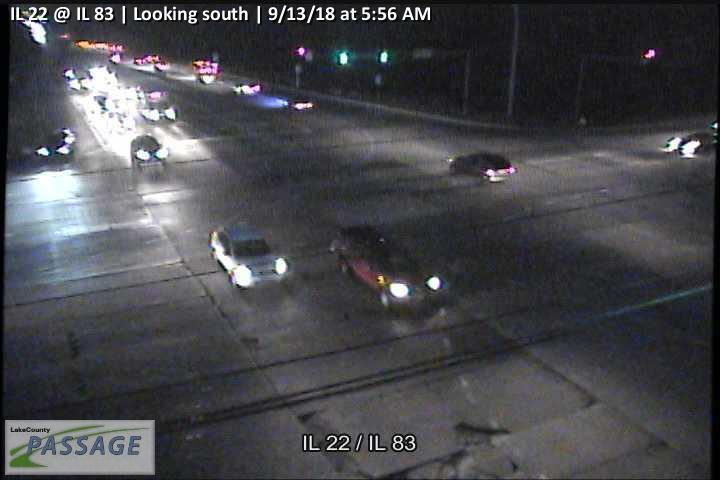SUV: (210, 223, 290, 291), (449, 151, 518, 185)
Sedan: (327, 226, 449, 311), (129, 133, 168, 165)
